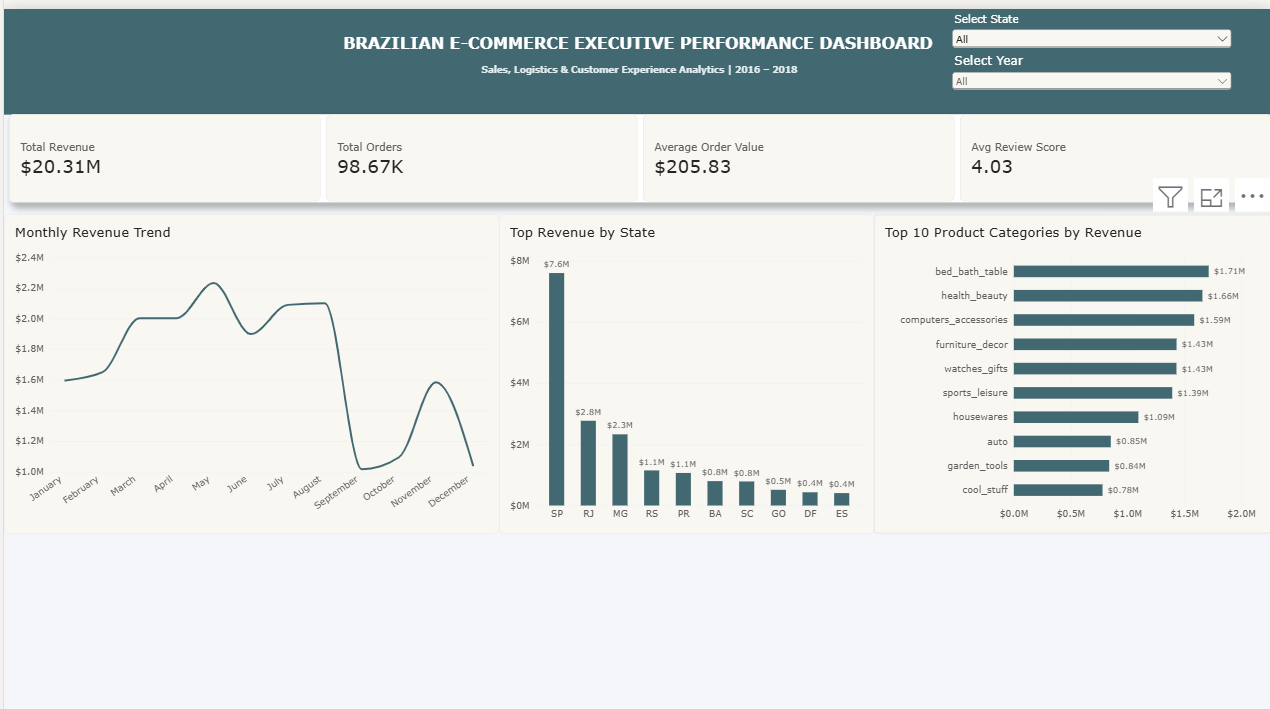

Layout of this report page (visuals, bound fields, positions):
{"tool":"powerbi","page":{"name":"Sales Overview","canvas":[1920,1080],"ordinal":0},"visuals":[{"type":"shape","box":[0,0,1920,160],"z":500},{"type":"cardVisual","fields":{"Data":["_Key Measures.Total Revenue","_Key Measures.Total Orders","_Key Measures.Average Order Value","_Key Measures.Avg Review Score"]},"box":[6,160,1914,134],"z":2000},{"type":"lineChart","title":"Monthly Revenue Trend","fields":{"Category":["ecommerce_analysis_ready.purchase_month.Variation.Date Hierarchy.Month"],"Y":["_Key Measures.Total Revenue"]},"box":[0,312,750,484],"z":3000},{"type":"clusteredBarChart","title":"Top 10 Product Categories by Revenue","fields":{"Category":["ecommerce_analysis_ready.product_category_name_english"],"Y":["_Key Measures.Total Revenue"]},"box":[1318,312,602,484],"z":4000},{"type":"slicer","fields":{"Values":["ecommerce_analysis_ready.purchase_year"]},"box":[1430,66,432,106],"z":5000},{"type":"clusteredColumnChart","title":"Top Revenue by State","fields":{"Category":["ecommerce_analysis_ready.customer_state"],"Y":["_Key Measures.Total Revenue"]},"box":[750,312,568,484],"z":7000},{"type":"slicer","fields":{"Values":["ecommerce_analysis_ready.customer_state"]},"box":[1430,4,432,62],"z":8500},{"type":"textbox","box":[0,36,1920,124],"z":9500},{"type":"textbox","box":[0,0,1920,44],"z":10000}]}

Visuals, with their boxes in screenshot pixels (x1, y1, x2, y2), scaled from the page's 1920x1080 canvas onto the 1270x709 screenshot:
shape: detection(0, 0, 1269, 105)
cardVisual - _Key Measures.Total Revenue x _Key Measures.Total Orders: detection(4, 105, 1269, 193)
"Monthly Revenue Trend" lineChart: detection(0, 205, 496, 523)
"Top 10 Product Categories by Revenue" clusteredBarChart: detection(872, 205, 1269, 523)
slicer - ecommerce_analysis_ready.purchase_year: detection(946, 43, 1232, 113)
"Top Revenue by State" clusteredColumnChart: detection(496, 205, 872, 523)
slicer - ecommerce_analysis_ready.customer_state: detection(946, 3, 1232, 43)
textbox: detection(0, 24, 1269, 105)
textbox: detection(0, 0, 1269, 29)
